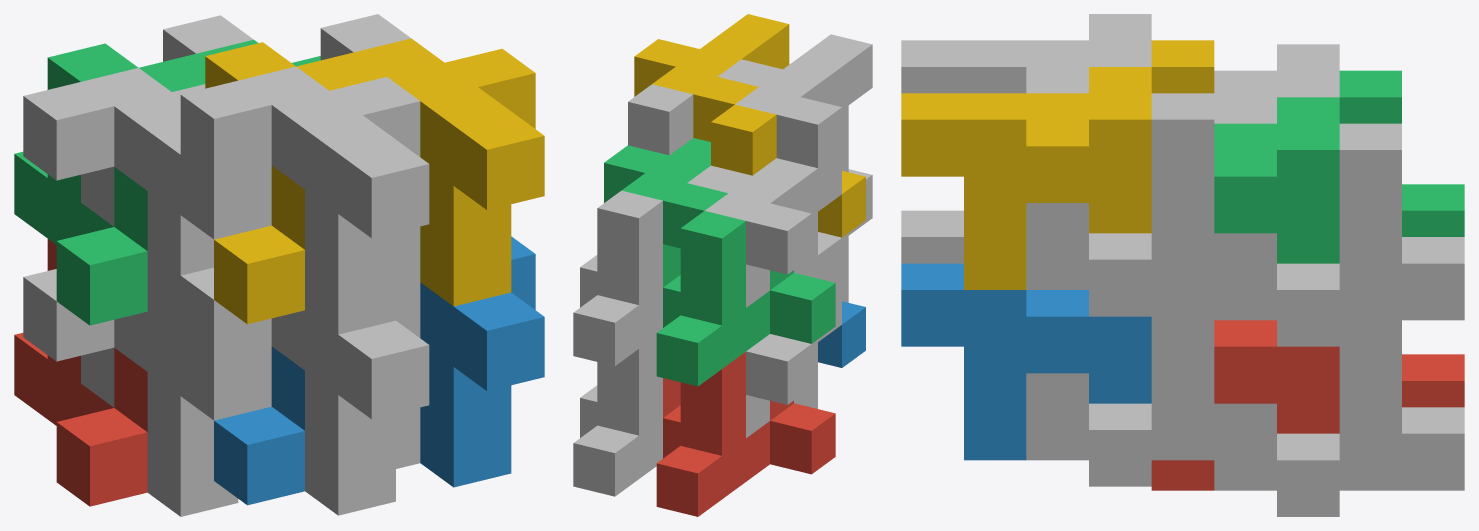
Rendered from tiling.obj.
3 views of the same model, side by side, from view 1: azimuth 30°, elevation 25°; view 2: azimuth 150°, elevation 25°; view 3: azimuth 270°, elevation 25° (orthographic). The views are drawn at different scales.
Visible parts, largest first — view 1: copy_2_domain_4, copy_2_domain_8, copy_2_domain_3, copy_2_domain_2, copy_2_domain_1, copy_2_domain_6, copy_1_domain_3, copy_1_domain_1, copy_1_domain_4, copy_1_domain_2, copy_1_domain_8, copy_1_domain_7 (+2 smaller); view 2: copy_1_domain_3, copy_1_domain_1, copy_1_domain_7, copy_2_domain_4, copy_2_domain_3, copy_1_domain_5, copy_2_domain_8, copy_2_domain_7, copy_1_domain_4, copy_2_domain_1, copy_1_domain_8, copy_1_domain_2 (+2 smaller); view 3: copy_2_domain_8, copy_1_domain_8, copy_2_domain_6, copy_1_domain_6, copy_1_domain_7, copy_1_domain_5, copy_2_domain_7, copy_2_domain_4, copy_2_domain_5, copy_2_domain_3, copy_1_domain_3, copy_1_domain_4 (+2 smaller).
Part boxes in pixels (x1=…): copy_2_domain_4: x1=180, y1=66, x2=429, y2=334; copy_2_domain_8: x1=296, y1=38, x2=544, y2=306; copy_2_domain_3: x1=23, y1=68, x2=271, y2=335; copy_2_domain_2: x1=180, y1=267, x2=429, y2=515; copy_2_domain_1: x1=23, y1=269, x2=271, y2=516; copy_2_domain_6: x1=420, y1=236, x2=544, y2=487; copy_1_domain_3: x1=14, y1=43, x2=147, y2=325; copy_1_domain_1: x1=14, y1=239, x2=147, y2=506; copy_1_domain_4: x1=205, y1=42, x2=304, y2=324; copy_1_domain_2: x1=214, y1=346, x2=304, y2=505; copy_1_domain_8: x1=320, y1=14, x2=420, y2=287; copy_1_domain_7: x1=163, y1=15, x2=253, y2=61; copy_1_domain_3: x1=656, y1=211, x2=835, y2=386; copy_1_domain_1: x1=656, y1=352, x2=835, y2=516; copy_1_domain_7: x1=573, y1=190, x2=662, y2=365; copy_2_domain_4: x1=717, y1=34, x2=872, y2=172; copy_2_domain_3: x1=687, y1=151, x2=841, y2=307; copy_1_domain_5: x1=573, y1=336, x2=662, y2=496; copy_2_domain_8: x1=634, y1=14, x2=789, y2=141; copy_2_domain_7: x1=604, y1=138, x2=727, y2=287; copy_1_domain_4: x1=711, y1=104, x2=865, y2=237; copy_2_domain_1: x1=746, y1=281, x2=841, y2=437; copy_1_domain_8: x1=628, y1=84, x2=693, y2=155; copy_1_domain_2: x1=818, y1=301, x2=865, y2=367; copy_2_domain_8: x1=901, y1=67, x2=1151, y2=289; copy_1_domain_8: x1=1026, y1=93, x2=1276, y2=316; copy_2_domain_6: x1=901, y1=263, x2=1151, y2=460; copy_1_domain_6: x1=1026, y1=290, x2=1276, y2=486; copy_1_domain_7: x1=1214, y1=123, x2=1464, y2=346; copy_1_domain_5: x1=1214, y1=320, x2=1464, y2=516; copy_2_domain_7: x1=1214, y1=97, x2=1339, y2=263; copy_2_domain_4: x1=901, y1=14, x2=1151, y2=93; copy_2_domain_5: x1=1151, y1=320, x2=1339, y2=490; copy_2_domain_3: x1=1214, y1=44, x2=1339, y2=123; copy_1_domain_3: x1=1339, y1=70, x2=1464, y2=236; copy_1_domain_4: x1=1151, y1=40, x2=1214, y2=93.
Bounding box in the file's own units: 6 × 7 × 9.
